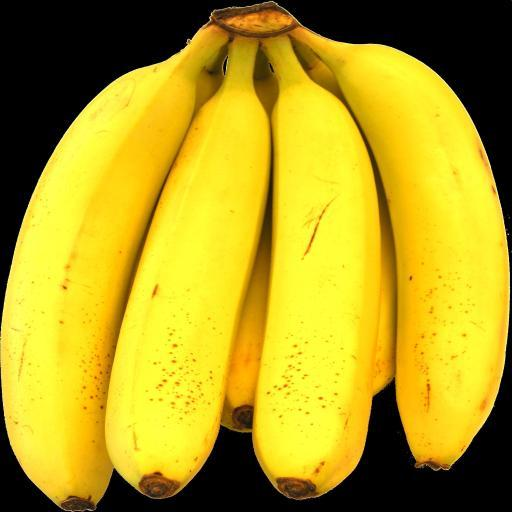banana: (2, 27, 227, 510), (294, 28, 509, 469), (106, 39, 270, 497), (253, 37, 380, 498)
